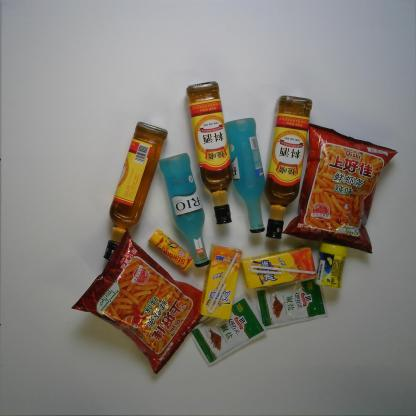Alcohol: (156, 150, 212, 271), (219, 115, 267, 235)
Candy: (146, 226, 196, 274)
Drink: (198, 240, 244, 324), (238, 245, 318, 291)
Gum: (313, 240, 351, 290)
Puffed Food: (70, 228, 206, 377), (278, 122, 400, 256)
Seasoner: (102, 120, 170, 262), (184, 79, 235, 227), (264, 90, 314, 240), (187, 290, 270, 368), (252, 274, 330, 330)
